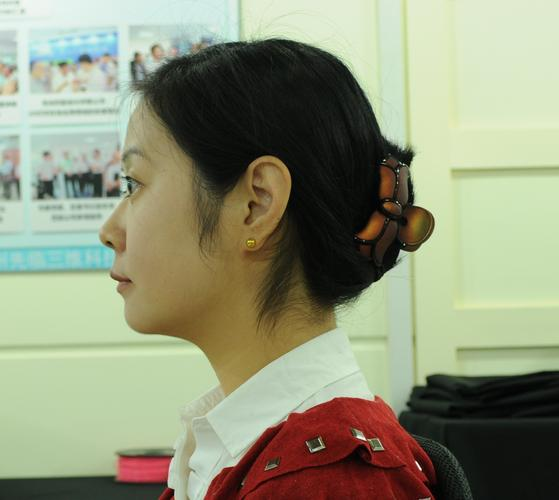no_mask: (98, 77, 307, 334)
